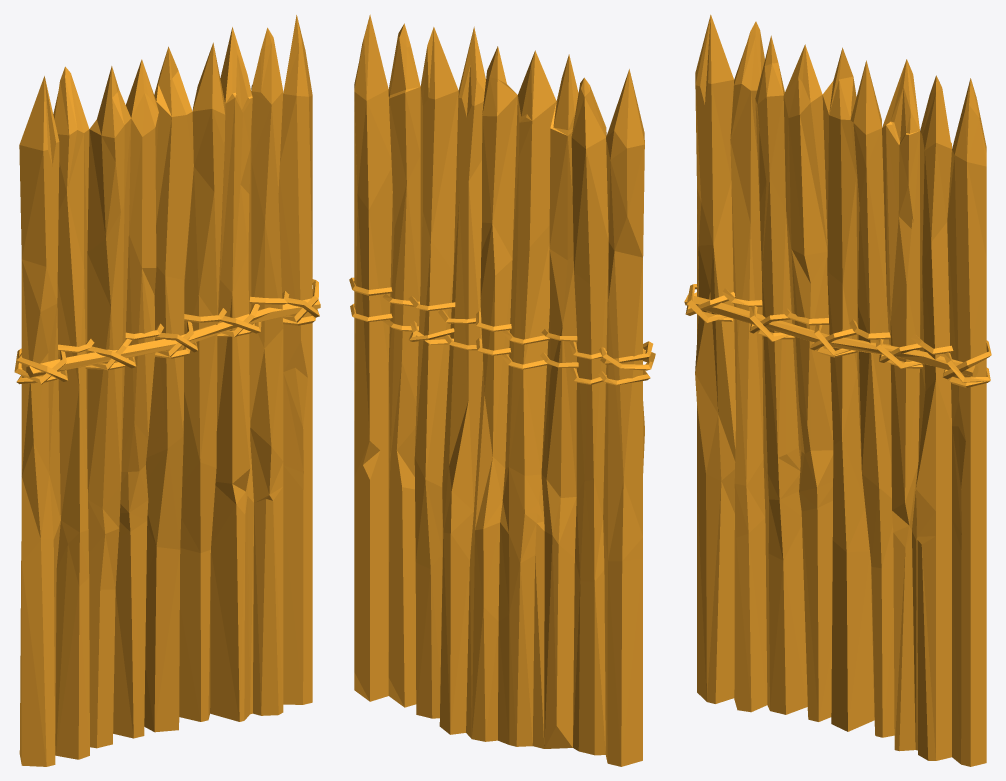
Rendered from SM_Palisade_3m_A.fbx.
3 renders of one model, left to right at view 1: azimuth 30°, elevation 25°; view 2: azimuth 150°, elevation 25°; view 3: azimuth 330°, elevation 25°, orthographic.
Visible parts, largest first — view 1: palisade-3m-a; view 2: palisade-3m-a; view 3: palisade-3m-a.
Boxes of the visible parts, x1,y1,x2,y2 form: palisade-3m-a: (14,15,320,766); palisade-3m-a: (349,14,655,766); palisade-3m-a: (684,14,991,766).
Size of the model in its own units: 3.14 by 6.79 by 0.7436.
